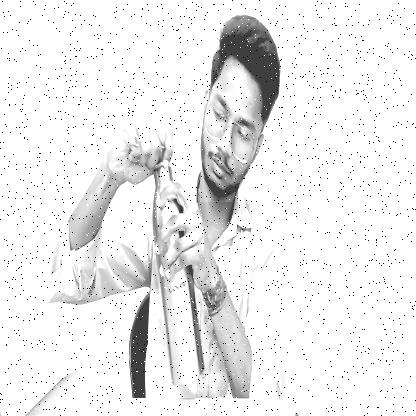Distracted: (200, 19, 285, 202)
